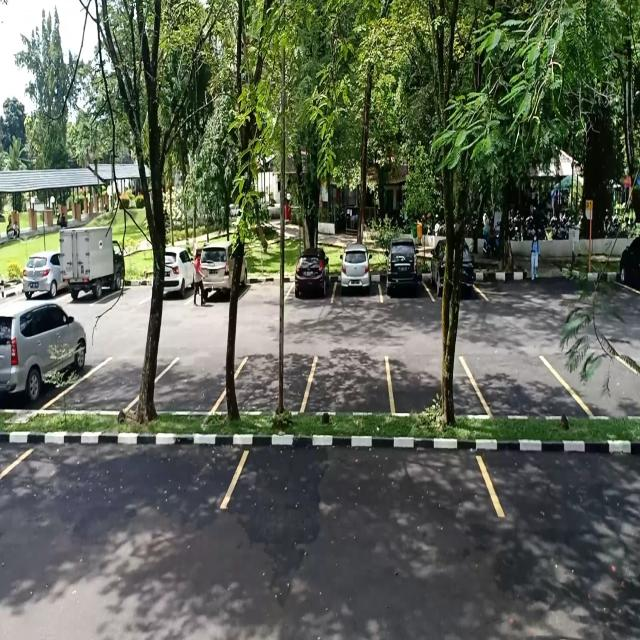empty: (225, 440, 495, 514), (6, 439, 234, 508), (472, 347, 583, 422), (387, 336, 477, 418), (307, 343, 395, 419), (67, 352, 171, 411), (230, 345, 317, 415), (154, 356, 228, 416)
occupied: (2, 314, 88, 408), (332, 257, 381, 305), (286, 261, 335, 304), (379, 259, 425, 302)
